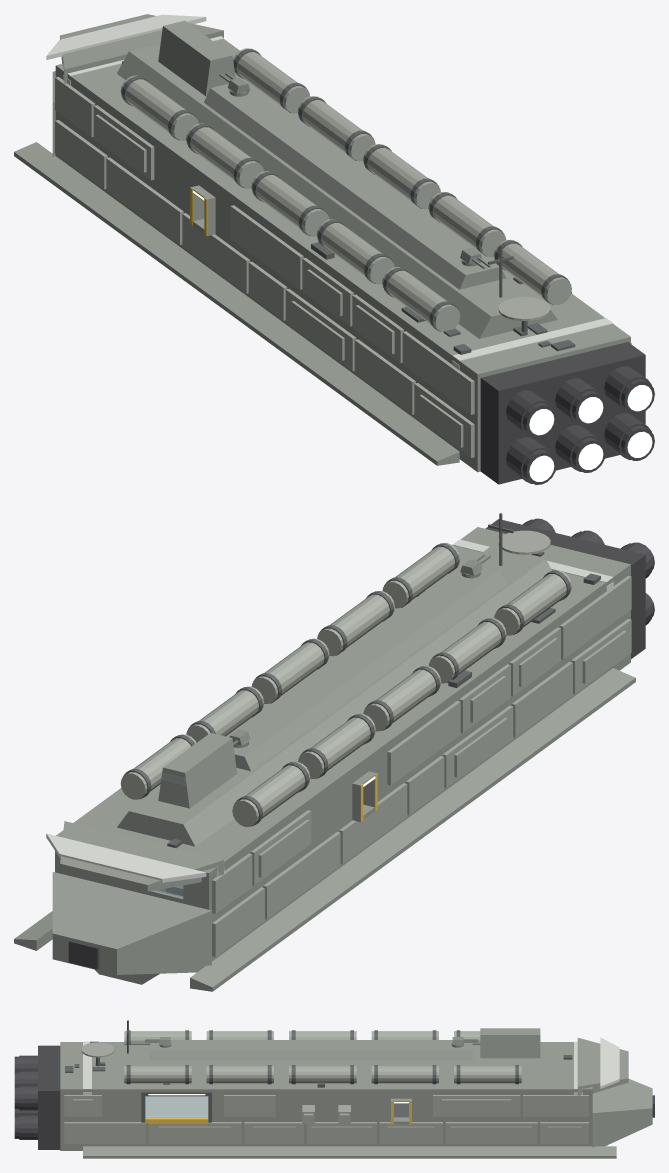
Rendered from ship_SMALL_SUPPORT_v3.glb.
3 renders of one model, top to bottom at view 1: azimuth 30°, elevation 25°; view 2: azimuth 150°, elevation 25°; view 3: azimuth 270°, elevation 25°, orthographic. The views are drawn at different scales.
Visible parts, largest first — view 1: SMALL_SUPPORT_Hull-col, SMALL_SUPPORT_Armor, SMALL_SUPPORT_Engines, SMALL_SUPPORT_Trim, SMALL_SUPPORT_Accent, SMALL_SUPPORT_EngineGlow, SMALL_SUPPORT_Details; view 2: SMALL_SUPPORT_Hull-col, SMALL_SUPPORT_Armor, SMALL_SUPPORT_Engines, SMALL_SUPPORT_Trim, SMALL_SUPPORT_Accent, SMALL_SUPPORT_Details; view 3: SMALL_SUPPORT_Hull-col, SMALL_SUPPORT_Armor, SMALL_SUPPORT_Engines, SMALL_SUPPORT_Trim, SMALL_SUPPORT_Accent, SMALL_SUPPORT_CargoBayShield, SMALL_SUPPORT_CargoBayDoor-col, SMALL_SUPPORT_Hazard, SMALL_SUPPORT_Details, SMALL_SUPPORT_EscapePod_1, SMALL_SUPPORT_EscapePod_2.
Boxes of the visible parts, x1,y1,x2,y2 form: SMALL_SUPPORT_Hull-col: (14,14,630,472); SMALL_SUPPORT_Armor: (55,48,631,457); SMALL_SUPPORT_Engines: (480,342,654,484); SMALL_SUPPORT_Trim: (121,48,571,332); SMALL_SUPPORT_Accent: (46,14,613,370); SMALL_SUPPORT_EngineGlow: (529,385,652,481); SMALL_SUPPORT_Details: (122,61,575,354); SMALL_SUPPORT_Hull-col: (14,527,635,991); SMALL_SUPPORT_Armor: (55,530,631,956); SMALL_SUPPORT_Engines: (68,518,654,969); SMALL_SUPPORT_Trim: (123,543,570,826); SMALL_SUPPORT_Accent: (46,539,613,882); SMALL_SUPPORT_Details: (167,513,600,848); SMALL_SUPPORT_Hull-col: (60,1028,652,1158); SMALL_SUPPORT_Armor: (64,1031,588,1143); SMALL_SUPPORT_Engines: (14,1045,654,1149); SMALL_SUPPORT_Trim: (96,1030,518,1122); SMALL_SUPPORT_Accent: (83,1037,619,1094); SMALL_SUPPORT_CargoBayShield: (145,1096,208,1116); SMALL_SUPPORT_CargoBayDoor-col: (145,1096,208,1116); SMALL_SUPPORT_Hazard: (145,1101,411,1124); SMALL_SUPPORT_Details: (65,1020,572,1087); SMALL_SUPPORT_EscapePod_1: (302,1105,314,1123); SMALL_SUPPORT_EscapePod_2: (338,1105,350,1123).
Bounding box in the file's own units: 19.8 × 17.4 × 85.5.
